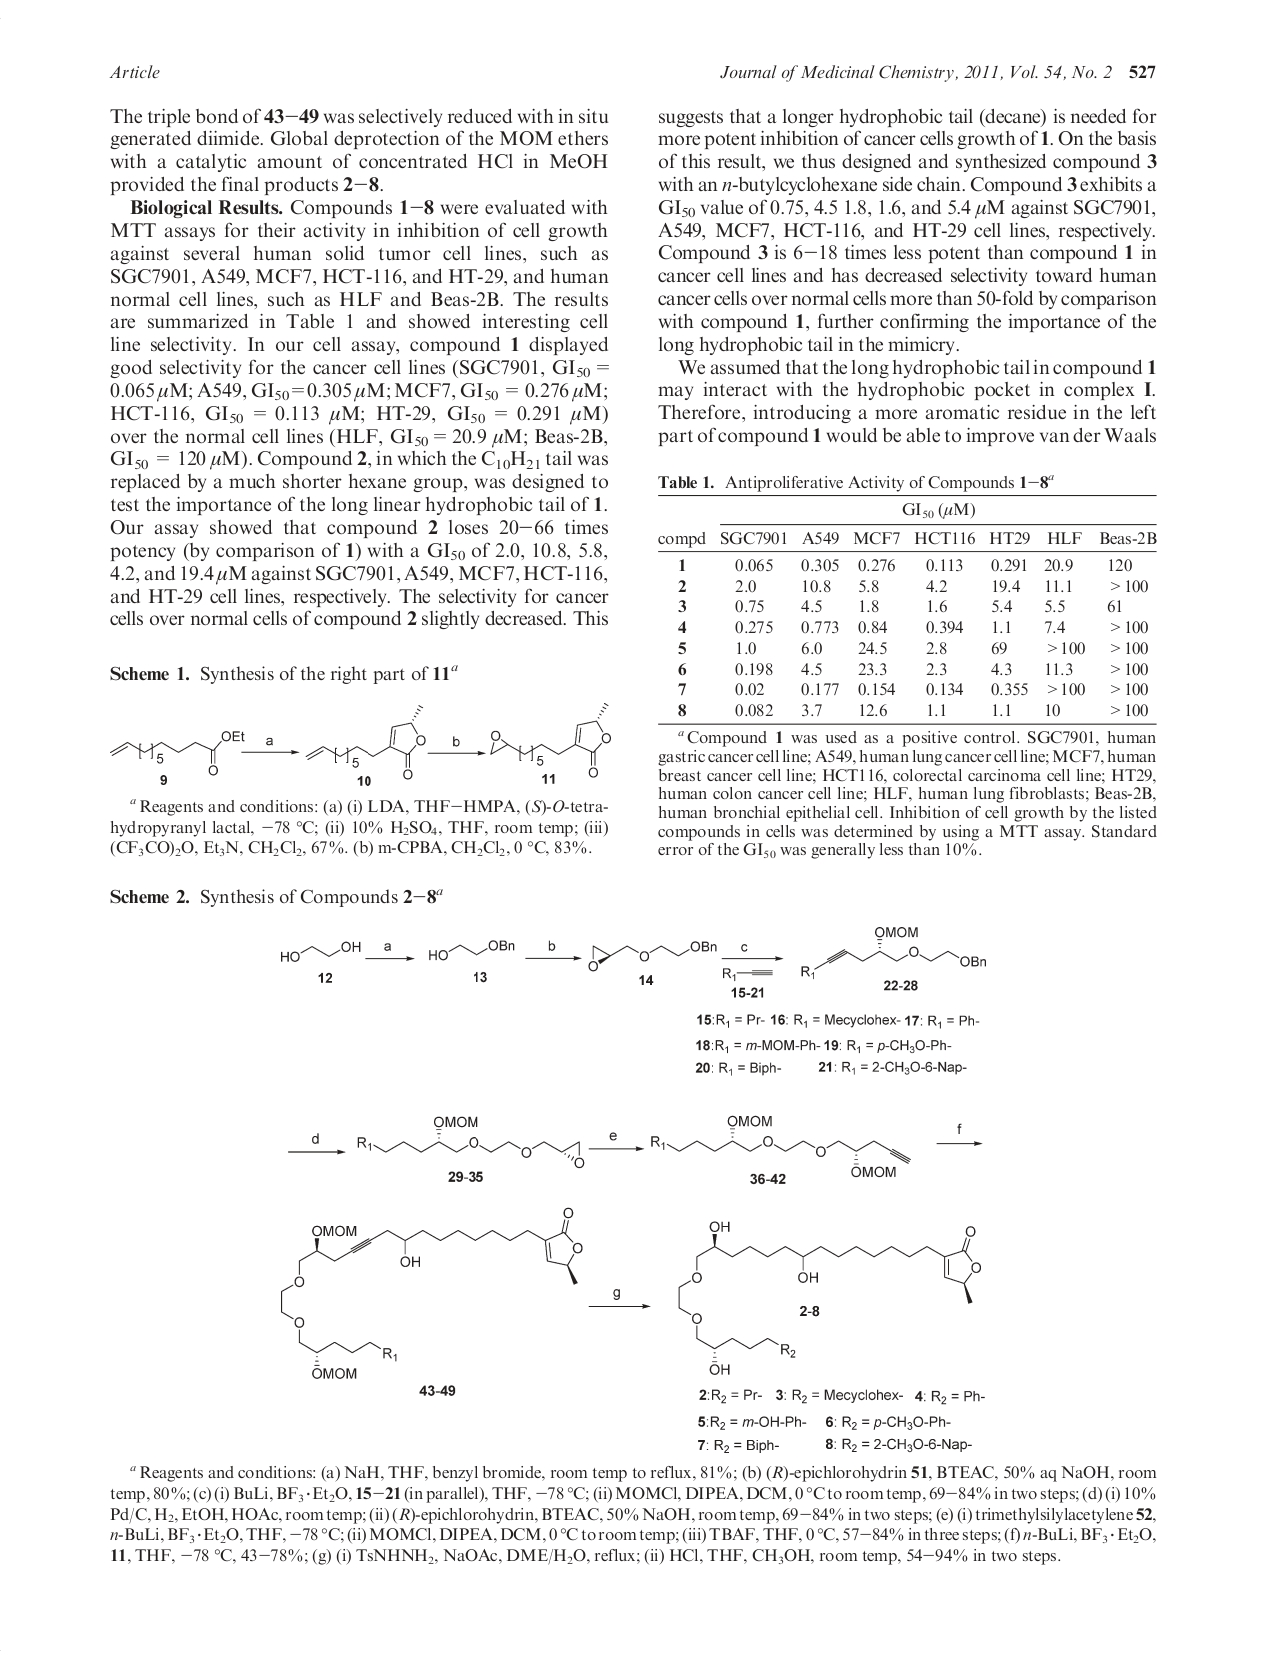exist_molecular: (278, 1206, 584, 1382), (676, 1218, 983, 1376), (646, 1110, 915, 1177), (352, 1106, 588, 1173), (798, 922, 997, 981), (485, 700, 614, 781), (302, 704, 430, 779), (105, 729, 246, 778), (585, 934, 719, 973), (275, 938, 364, 967), (426, 938, 519, 965), (721, 964, 781, 983)
